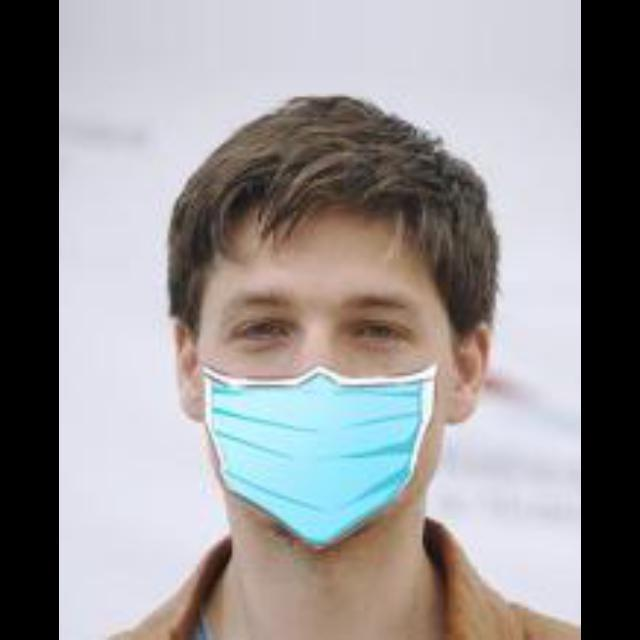1_mascarilla: (197, 361, 436, 551)
